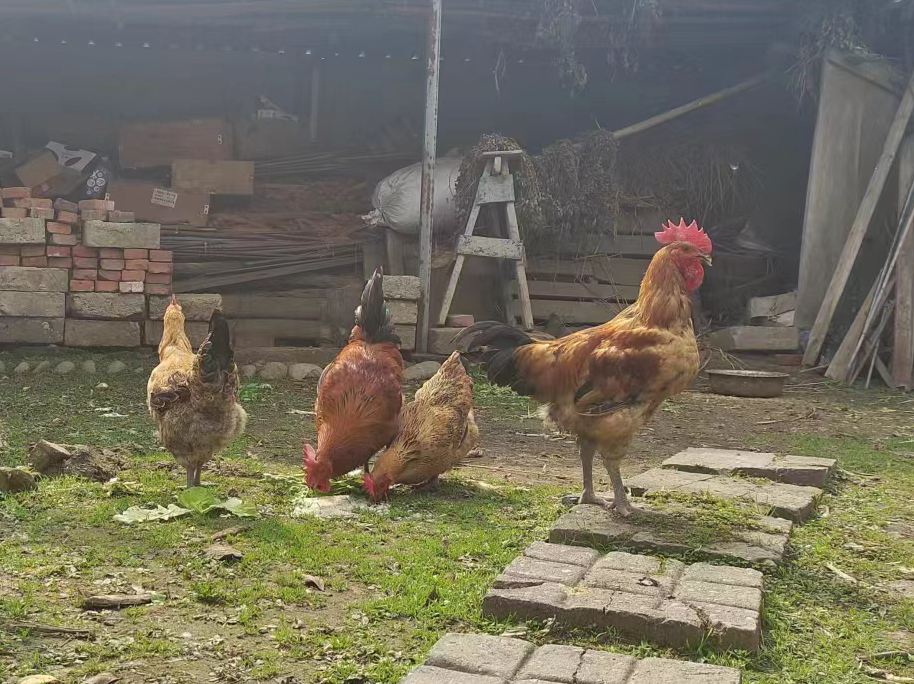chicken: (452, 216, 714, 514), (303, 264, 405, 496), (147, 294, 248, 489), (360, 348, 481, 501)
